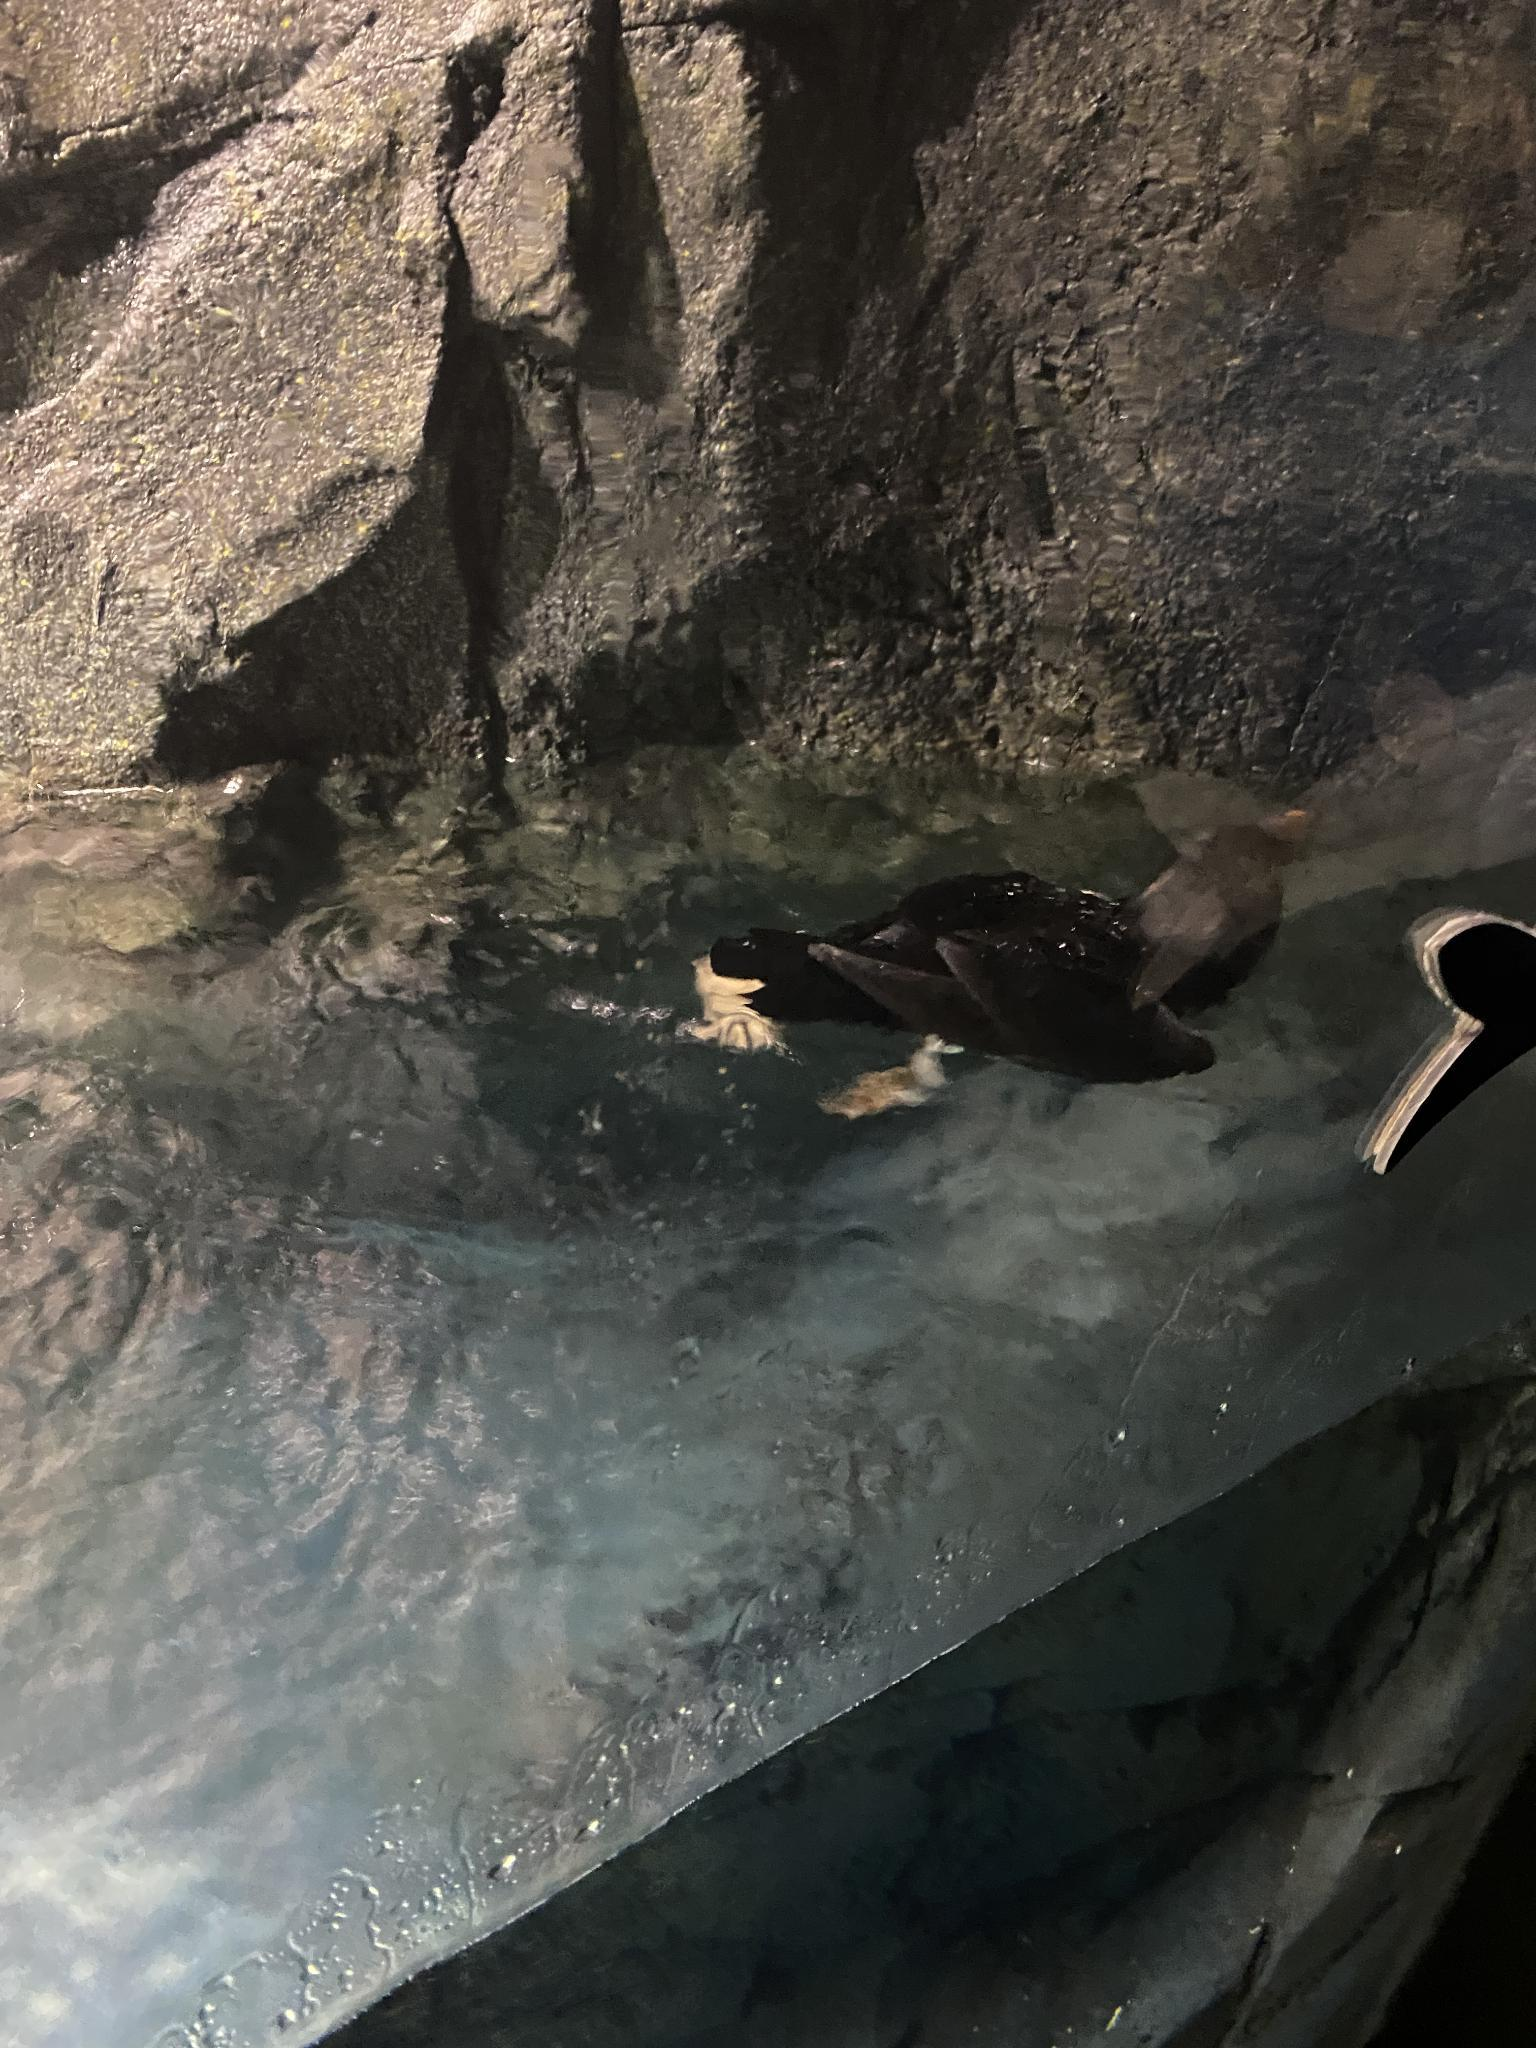puffin: (631, 843, 1212, 1134)
